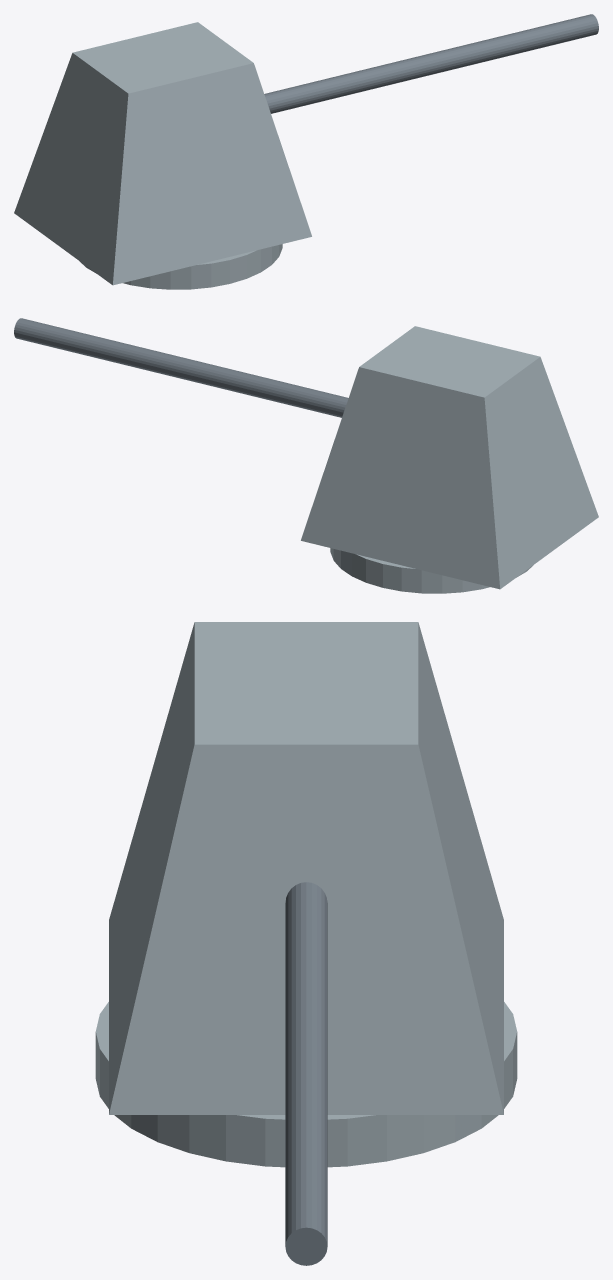
The model's file is oto_76mm_gun.glb.
3 views of the same model, one above another, from view 1: azimuth 30°, elevation 25°; view 2: azimuth 150°, elevation 25°; view 3: azimuth 270°, elevation 25° (orthographic). The views are drawn at different scales.
Visible parts, largest first — view 1: oto_76mm_gun; view 2: oto_76mm_gun; view 3: oto_76mm_gun.
Boxes of the visible parts, x1,y1,x2,y2 form: oto_76mm_gun: [14, 14, 598, 289]; oto_76mm_gun: [14, 318, 598, 593]; oto_76mm_gun: [95, 622, 517, 1265].
Bounding box in the file's own units: 10 × 3.44 × 3.44.
